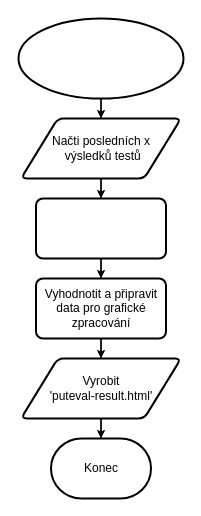
The diagram is 201 pixels wide and 516 high, and some of its shapes have lost their labels. The shapes that lost their labels are listed below. From the top down, each one's box as (x1, y1, x2, y2) in pixels, then its label:
(17, 17, 184, 99): evaluate --graphical x
(34, 197, 166, 259): Naparsovat testy
